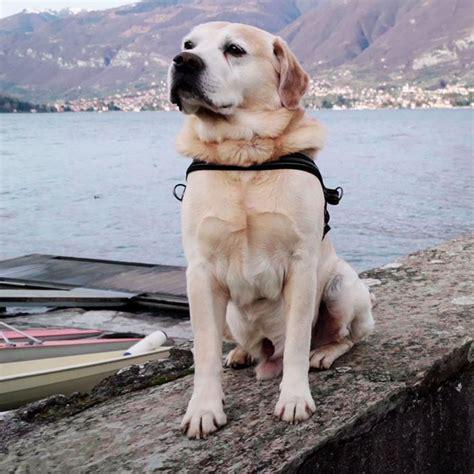dog: (169, 21, 373, 438)
